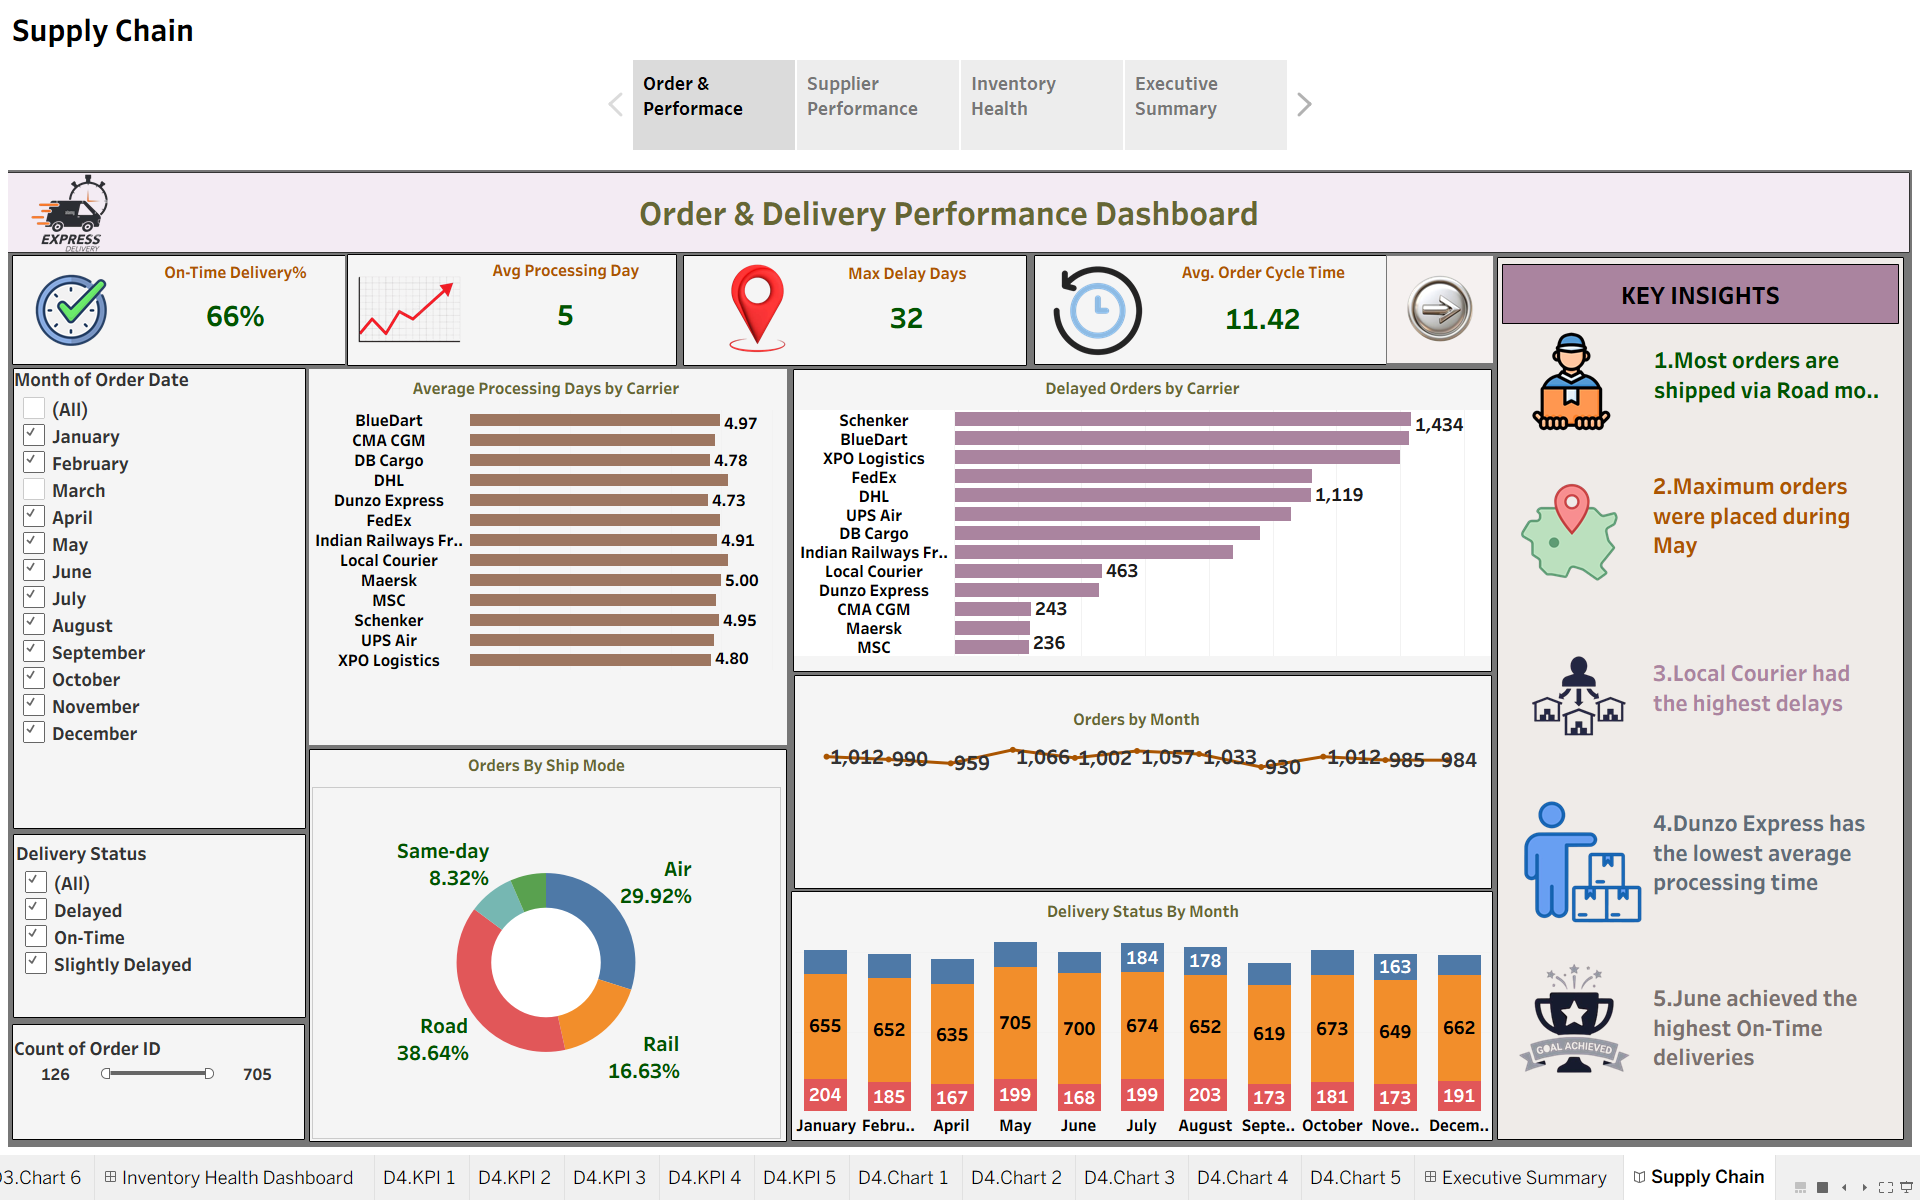

The page's visual inventory and layout, read from the dashboard file:
{"tool":"tableau","page":{"name":"Order & Performance Dashboard 1","canvas":[1000,1000],"units":"permille","ordinal":2},"visuals":[{"type":"image","param":"C:/Users/shrut/Downloads/supplychain_tableau_dashboardfinal.twb Files/Image/What","box":[4.4,86.8,59.2,112.5]},{"type":"worksheet","title":"D1.KPI 2","mark":"Automatic","box":[235.7,86.8,114.7,110]},{"type":"image","param":"C:/Users/shrut/Downloads/supplychain_tableau_dashboardfinal.twb Files/Image/What","box":[366,88,72.3,106.4]},{"type":"dashboard-object","box":[724.4,88,55.5,110]},{"type":"worksheet","title":"D1.KPI 1","mark":"Automatic","box":[62.3,89.2,114.1,107.6]},{"type":"worksheet","title":"D1.KPI 4","mark":"Automatic","box":[597.9,89.2,123.4,101.5]},{"type":"worksheet","title":"D1.KPI 3","mark":"Automatic","box":[411.5,90.5,122.2,106.4]},{"type":"text","box":[782.4,91.7,212.6,69.7]},{"type":"image","param":"C:/Users/shrut/Downloads/supplychain_tableau_dashboardfinal.twb Files/Image/What","box":[180.8,92.9,59.2,112.5]},{"type":"image","param":"C:/Users/shrut/Downloads/supplychain_tableau_dashboardfinal.twb Files/Image/What","box":[546.1,94.1,66.7,100.2]},{"type":"image","param":"C:/Users/shrut/Downloads/supplychain_tableau_dashboardfinal.twb Files/Image/What","box":[793.6,162.6,57.4,106.4]},{"type":"text","box":[860.4,166.3,132.2,85.6]},{"type":"filter","title":"D1.Chart1","param":"[federated.126etw91dogkyb0zrq07615un7oo].[mn:Order_Date:ok]","box":[3.1,200.5,149.6,468.2]},{"type":"worksheet","title":"D1.Chart5","mark":"Automatic","rows":["Carrier"],"cols":["Processing_Days"],"box":[158.3,207.8,248.8,370.4]},{"type":"worksheet","title":"D1.Chart 4","mark":"Bar","rows":["Carrier"],"cols":["Delay_Days"],"box":[412.7,207.8,366,289.7]},{"type":"text","box":[859.7,278.7,131.6,149.1]},{"type":"image","param":"C:/Users/shrut/Downloads/supplychain_tableau_dashboardfinal.twb Files/Image/What","box":[793,317.9,62.3,103.9]},{"type":"text","box":[859.7,454.8,130.3,149.1]},{"type":"image","param":"C:/Users/shrut/Downloads/supplychain_tableau_dashboardfinal.twb Files/Image/What","box":[788,464.6,81.7,144.2]},{"type":"worksheet","title":"D1.Chart 3","mark":"Line","rows":["Order_ID"],"cols":["Order_Date"],"box":[413.3,546.5,358.5,184.6]},{"type":"worksheet","title":"D1.Chart 2","mark":"Pie","cols":["Calculation_0795526750957579","Calculation_0795526750998541"],"box":[159.6,594.1,246.3,398.5]},{"type":"text","box":[859.7,628.4,130.9,139.4]},{"type":"image","param":"C:/Users/shrut/Downloads/supplychain_tableau_dashboardfinal.twb Files/Image/What","box":[793,641.8,79.8,132]},{"type":"filter","title":"D1.Chart1","param":"[federated.126etw91dogkyb0zrq07615un7oo].[none:Delivery_Status:nk]","box":[4.4,685.8,149,177.3]},{"type":"worksheet","title":"D1.Chart1","mark":"Bar","rows":["Order_ID"],"cols":["Order_Date"],"box":[412.7,743.3,366.6,246.9]},{"type":"image","param":"C:/Users/shrut/Downloads/supplychain_tableau_dashboardfinal.twb Files/Image/mode","box":[781.2,787.3,96,161.4]},{"type":"text","box":[859.7,791,130.3,172.4]},{"type":"filter","title":"D1.Chart1","param":"[federated.126etw91dogkyb0zrq07615un7oo].[cnt:Order_ID:qk]","box":[3.1,885.1,150.9,102.7]}]}

Visuals, with their boxes on the dashboard's canvas, which has no fixed pixel size, in thousandths of its width and height (x1, y1, x2, y2). These are canvas units, not pixel positions in the 1920x1200 screenshot, which may show the page scaled, cropped or inside an application window:
image: region(4, 87, 64, 199)
"D1.KPI 2" worksheet: region(236, 87, 350, 197)
image: region(366, 88, 438, 194)
dashboard-object: region(724, 88, 780, 198)
"D1.KPI 1" worksheet: region(62, 89, 176, 197)
"D1.KPI 4" worksheet: region(598, 89, 721, 191)
"D1.KPI 3" worksheet: region(412, 90, 534, 197)
text: region(782, 92, 995, 161)
image: region(181, 93, 240, 205)
image: region(546, 94, 613, 194)
image: region(794, 163, 851, 269)
text: region(860, 166, 993, 252)
"D1.Chart1" filter: region(3, 200, 153, 669)
"D1.Chart5" worksheet: region(158, 208, 407, 578)
"D1.Chart 4" worksheet (Bar marks): region(413, 208, 779, 498)
text: region(860, 279, 991, 428)
image: region(793, 318, 855, 422)
text: region(860, 455, 990, 604)
image: region(788, 465, 870, 609)
"D1.Chart 3" worksheet (Line marks): region(413, 546, 772, 731)
"D1.Chart 2" worksheet (Pie marks): region(160, 594, 406, 993)
text: region(860, 628, 991, 768)
image: region(793, 642, 873, 774)
"D1.Chart1" filter: region(4, 686, 153, 863)
"D1.Chart1" worksheet (Bar marks): region(413, 743, 779, 990)
image: region(781, 787, 877, 949)
text: region(860, 791, 990, 963)
"D1.Chart1" filter: region(3, 885, 154, 988)
